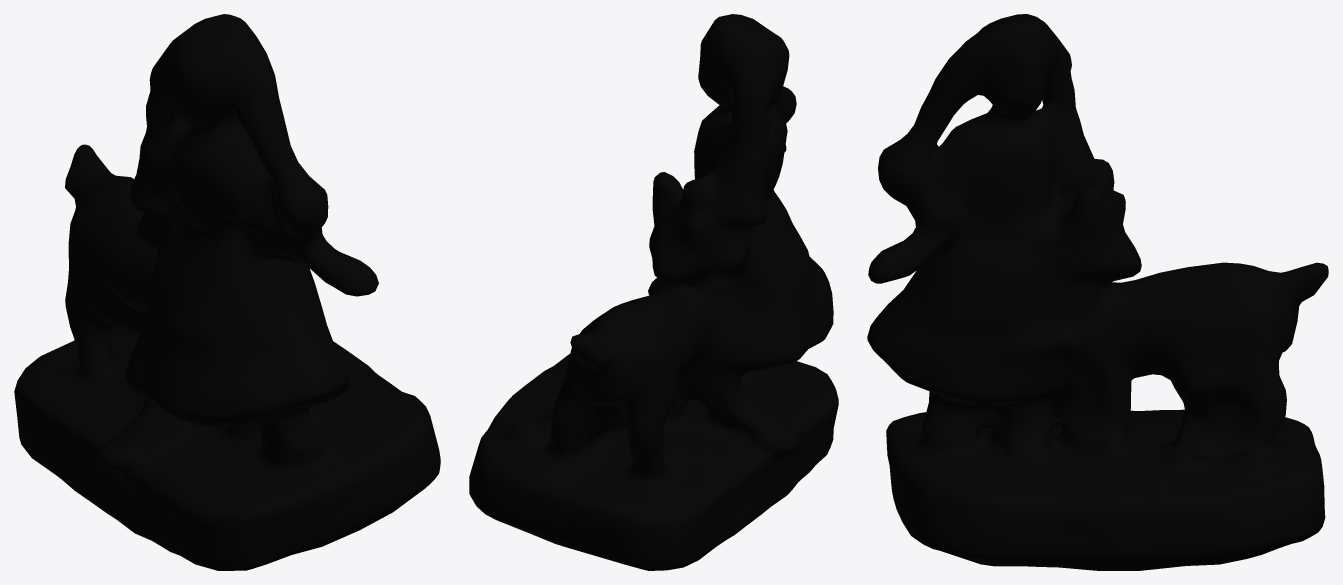
Rendered from HeidiGoatSouvenir.fbx.
The picture shows the model from 3 angles, left to right: view 1: azimuth 30°, elevation 25°; view 2: azimuth 150°, elevation 25°; view 3: azimuth 270°, elevation 25°; orthographic projection. The views are drawn at different scales.
Visible parts, largest first — view 1: HeidiGoat; view 2: HeidiGoat; view 3: HeidiGoat.
Part boxes in pixels (x1,y1,x2,y2): HeidiGoat: (14,14,440,570); HeidiGoat: (469,14,838,570); HeidiGoat: (867,14,1328,570).
Bounding box in the file's own units: 47.27 × 81.09 × 68.97.
Materials: 1 (1 with a texture image).
